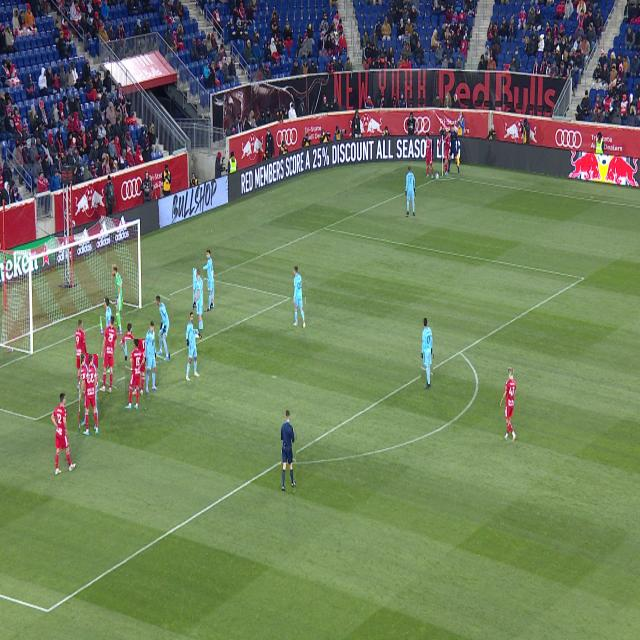football: (435, 173, 439, 180)
goalkeeper: (113, 264, 123, 335)
player: (51, 393, 76, 475), (80, 354, 98, 435), (126, 339, 145, 410), (100, 317, 117, 393), (500, 367, 516, 442), (119, 323, 134, 397), (186, 312, 201, 381), (144, 321, 158, 393), (156, 296, 170, 361), (75, 319, 87, 393), (200, 249, 214, 311), (422, 318, 433, 388), (294, 267, 305, 329), (194, 268, 203, 329), (406, 167, 415, 216), (443, 130, 451, 176), (426, 133, 433, 178), (104, 298, 112, 328), (81, 353, 89, 379), (92, 407, 97, 426), (80, 384, 82, 420), (195, 333, 200, 338), (107, 368, 111, 374), (135, 386, 138, 394), (82, 424, 84, 429), (83, 380, 84, 390), (200, 336, 202, 338), (200, 305, 201, 308)
referee: (281, 410, 296, 492)
